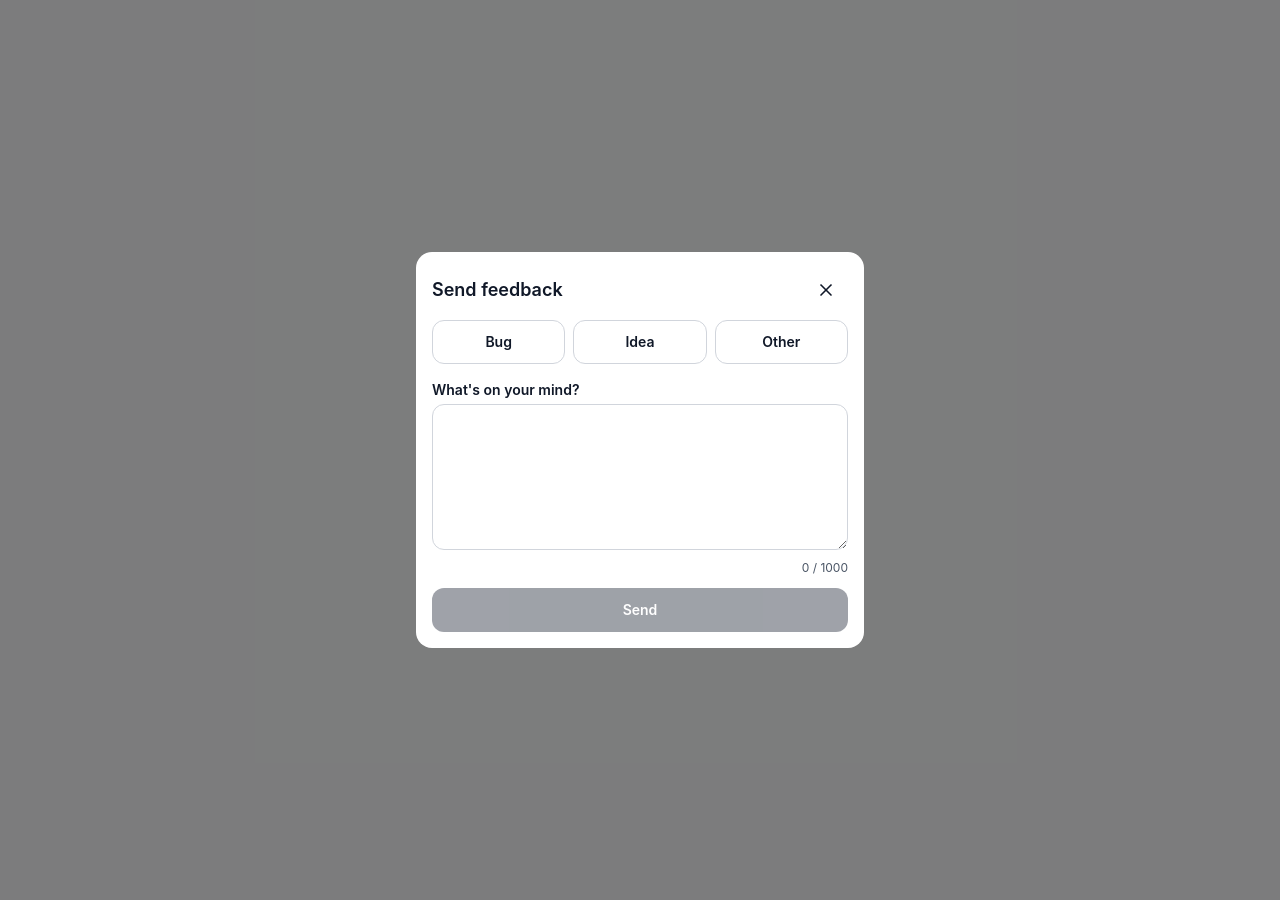
Scenario: FeedbackDialog › sends the type, the message, the page and the open Solution, then says thanks
Click the button "Idea".
click(640, 342)  # box [573,320,707,364]
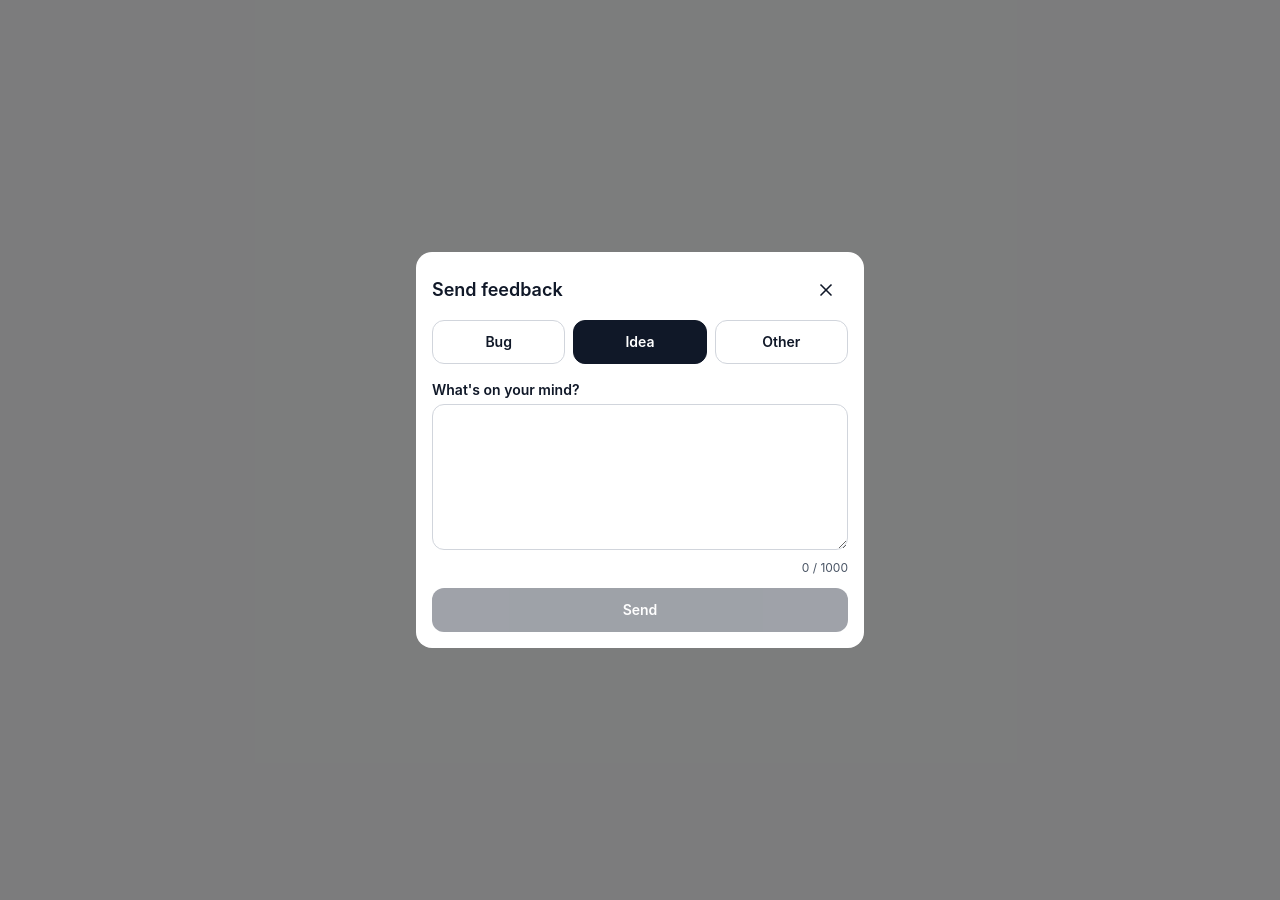
Type "Add a graph of the answer" into the text box labelled "What's on your mind?".
click(640, 477); type("Add a graph of the answer")  # box [432,404,848,550]
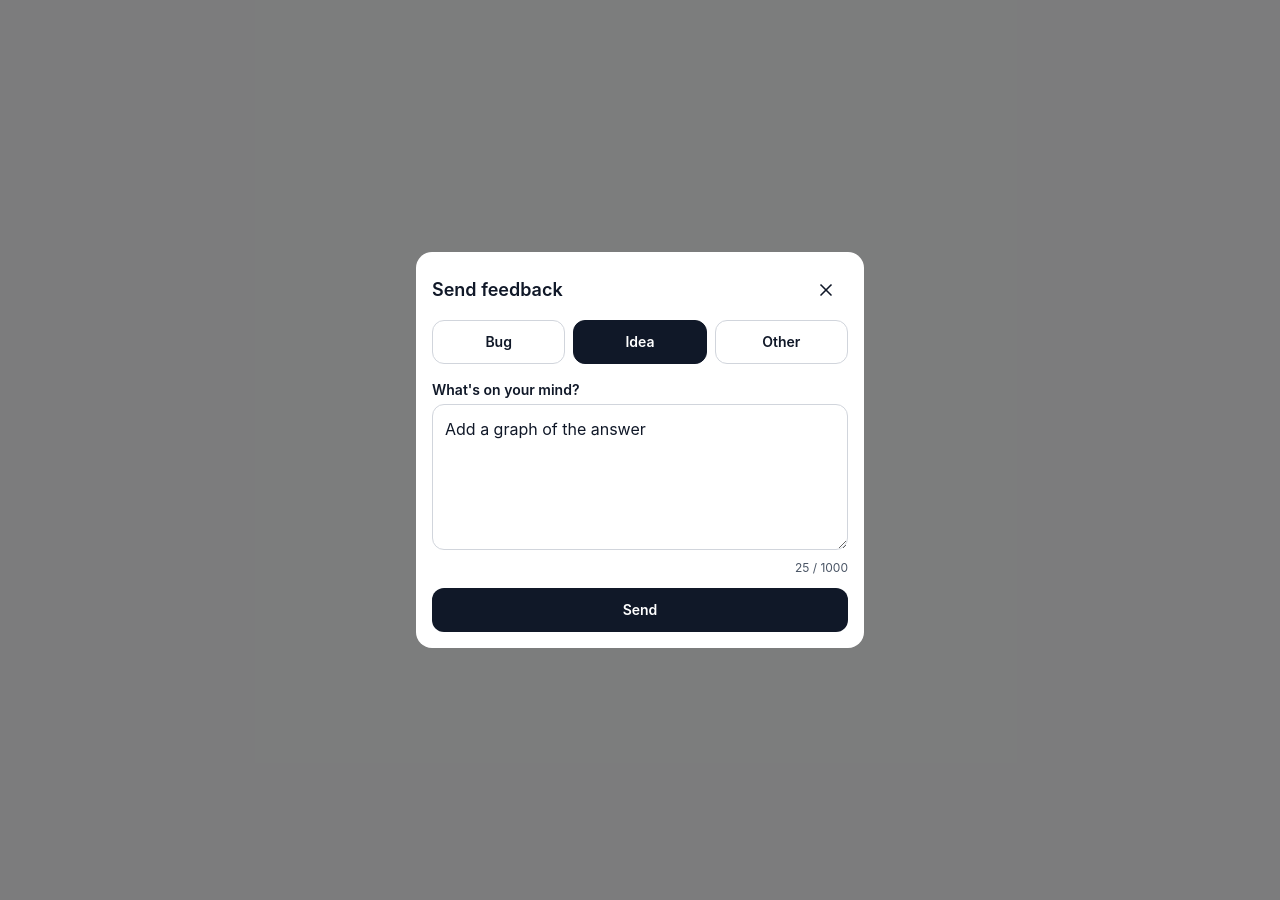
Click the button "Send".
click(640, 610)  # box [432,588,848,632]
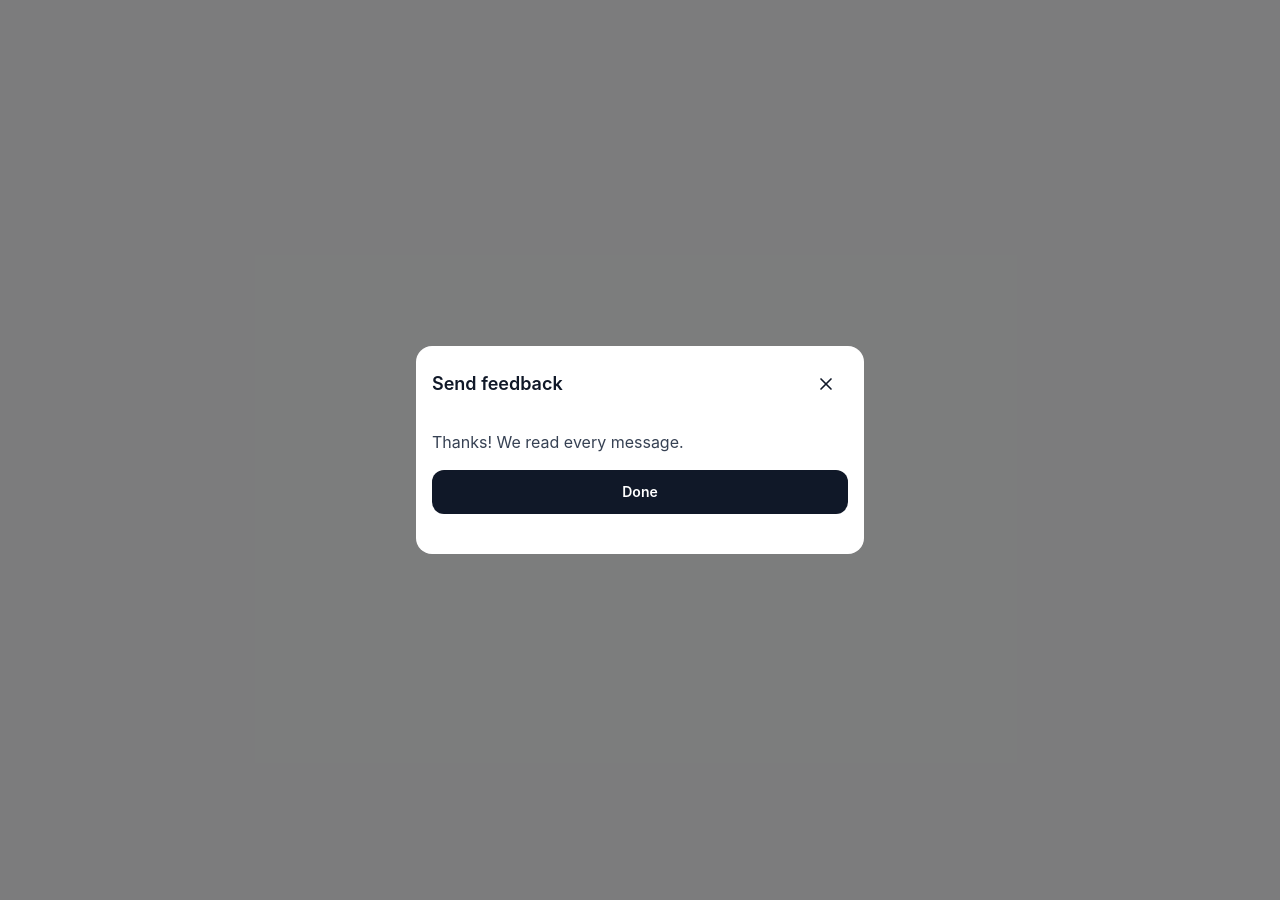
Now the text "Thanks! We read every message." is shown, box [432,432,684,452]
